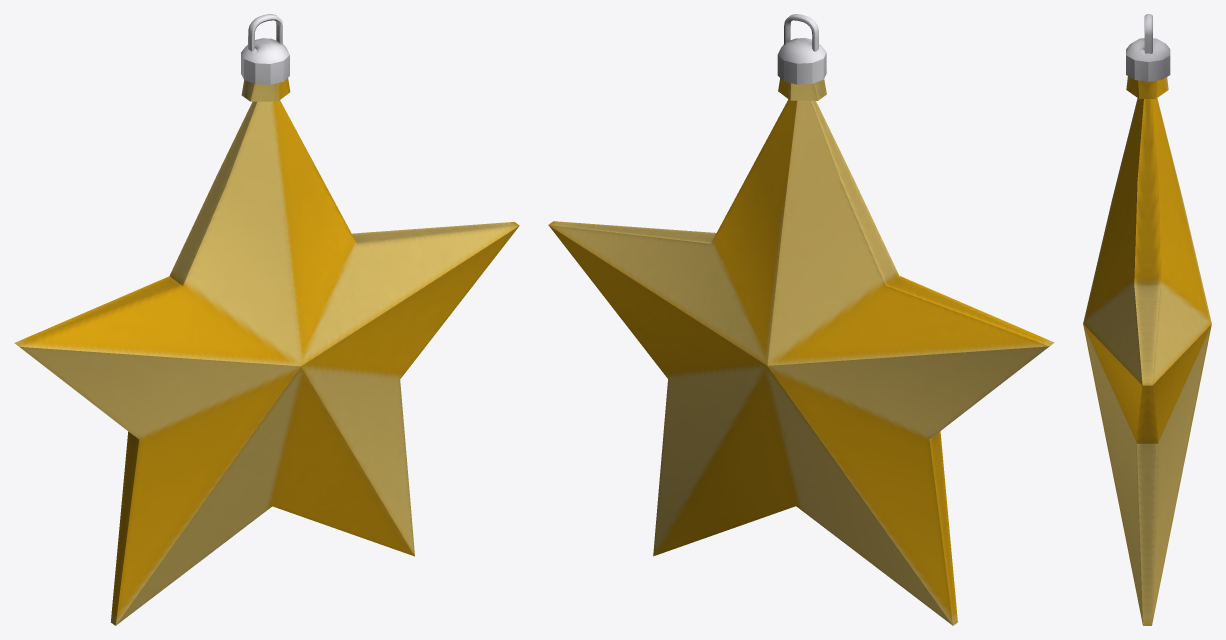
3 renders of one model, left to right at view 1: azimuth 30°, elevation 25°; view 2: azimuth 150°, elevation 25°; view 3: azimuth 270°, elevation 25°, orthographic. The views are drawn at different scales.
Visible parts, largest first — view 1: V5_Christmas Collection5_V5_Christmas Collection_0; view 2: V5_Christmas Collection5_V5_Christmas Collection_0; view 3: V5_Christmas Collection5_V5_Christmas Collection_0.
Part boxes in pixels (x1=…): V5_Christmas Collection5_V5_Christmas Collection_0: x1=14, y1=14, x2=519, y2=625; V5_Christmas Collection5_V5_Christmas Collection_0: x1=548, y1=14, x2=1054, y2=625; V5_Christmas Collection5_V5_Christmas Collection_0: x1=1083, y1=14, x2=1211, y2=625.
Bounding box in the file's own units: 32.7 × 35.88 × 7.73.
1 material, 1 textured.
